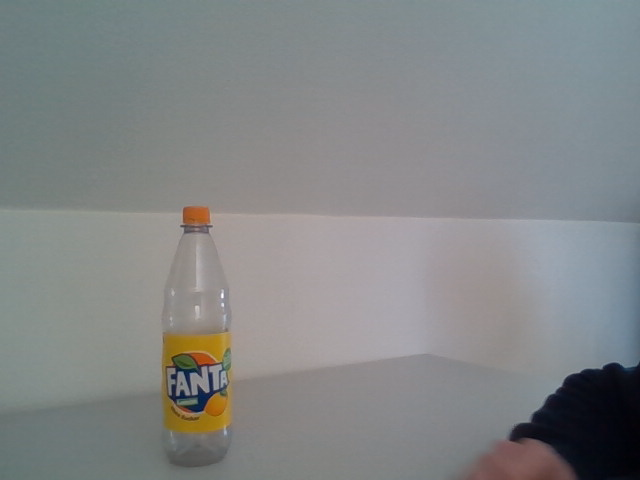bottle: (160, 206, 232, 467)
